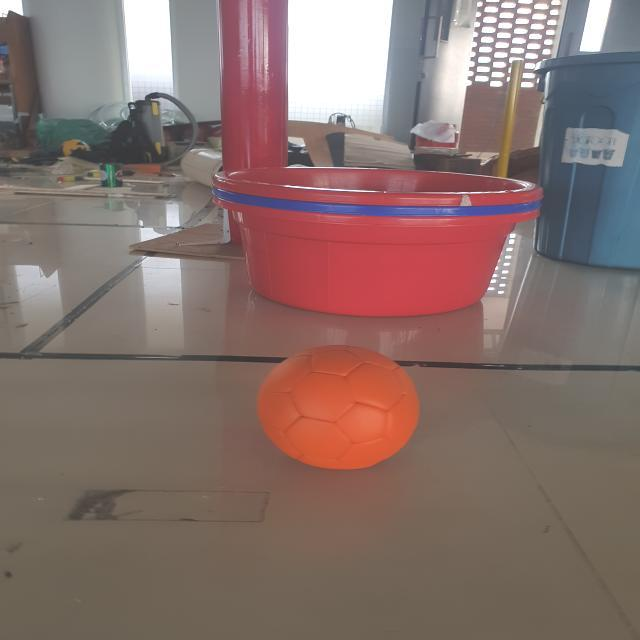bola: (250, 336, 427, 474)
